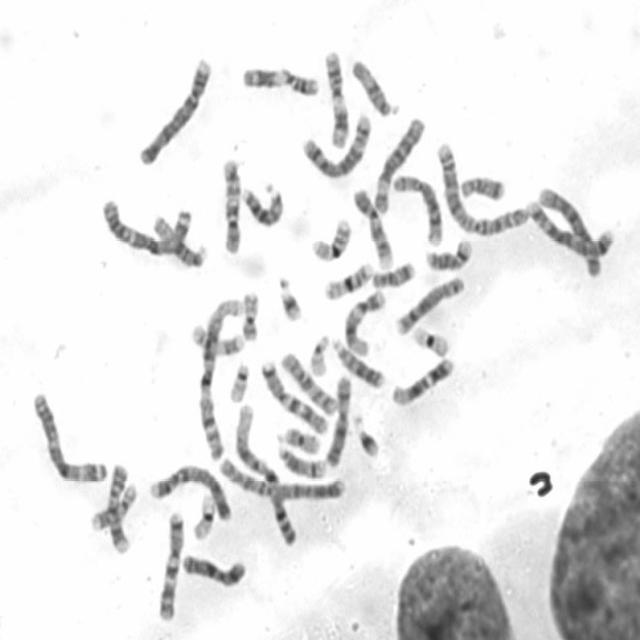A1: (230, 397, 300, 547), (193, 288, 247, 462)
A2: (433, 134, 532, 239), (214, 450, 350, 503)
A3: (27, 384, 110, 484), (97, 190, 196, 258)
B4: (133, 50, 214, 167), (144, 456, 235, 522)
B5: (522, 192, 616, 260), (297, 106, 374, 180)
C10: (276, 344, 341, 418), (217, 150, 244, 255)
C11: (319, 42, 352, 150), (236, 59, 322, 97)
C12: (387, 349, 458, 407), (339, 282, 388, 356)
C6: (532, 180, 606, 278), (369, 108, 427, 215)
C7: (256, 352, 332, 434), (152, 504, 186, 623)
C8: (390, 268, 467, 336), (388, 168, 446, 247)
C9: (348, 180, 396, 268), (103, 456, 133, 556)
D13: (327, 331, 387, 390), (237, 176, 286, 228)
D14: (272, 435, 328, 480), (421, 231, 475, 272)
D15: (147, 206, 209, 270), (347, 50, 401, 118)
E16: (319, 254, 376, 302), (306, 210, 354, 262)
E17: (87, 476, 140, 533), (185, 316, 248, 356)
E18: (456, 168, 507, 203), (368, 254, 418, 289)
F19: (408, 319, 452, 358), (187, 487, 217, 541)
F20: (276, 420, 322, 455), (237, 284, 261, 342)
G21: (273, 268, 305, 323), (349, 407, 382, 460)
G22: (305, 326, 332, 378), (224, 354, 252, 404)
X: (320, 366, 354, 468), (178, 546, 248, 589)
